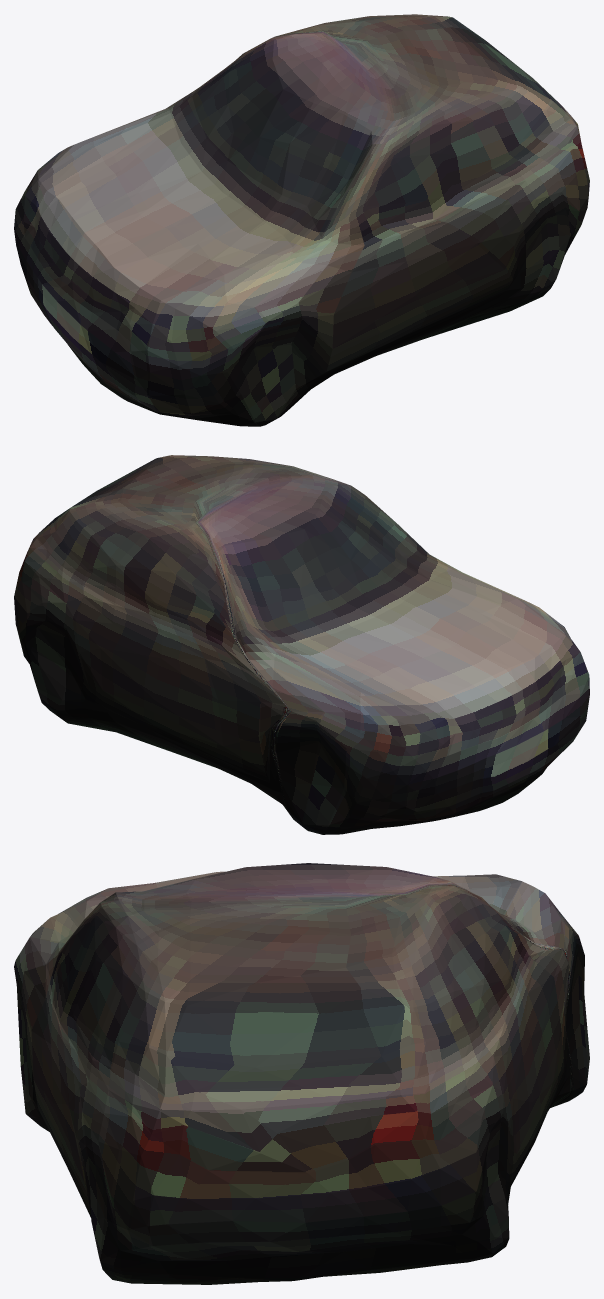
The model's file is video3_221.obj.
The picture shows the model from 3 angles, top to bottom: view 1: azimuth 30°, elevation 25°; view 2: azimuth 150°, elevation 25°; view 3: azimuth 270°, elevation 25°; orthographic projection. The views are drawn at different scales.
Bounding box in the file's own units: 1 × 0.5097 × 0.7292.
Materials: 1 (1 with a texture image).
